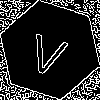V: (25, 25, 72, 78)
